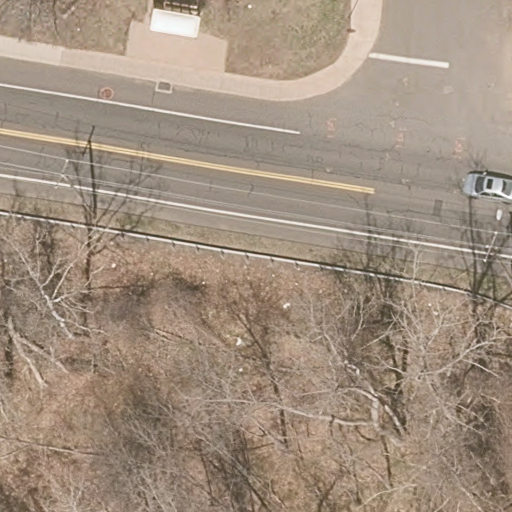DT: (52, 159, 96, 218), (482, 231, 512, 286)
